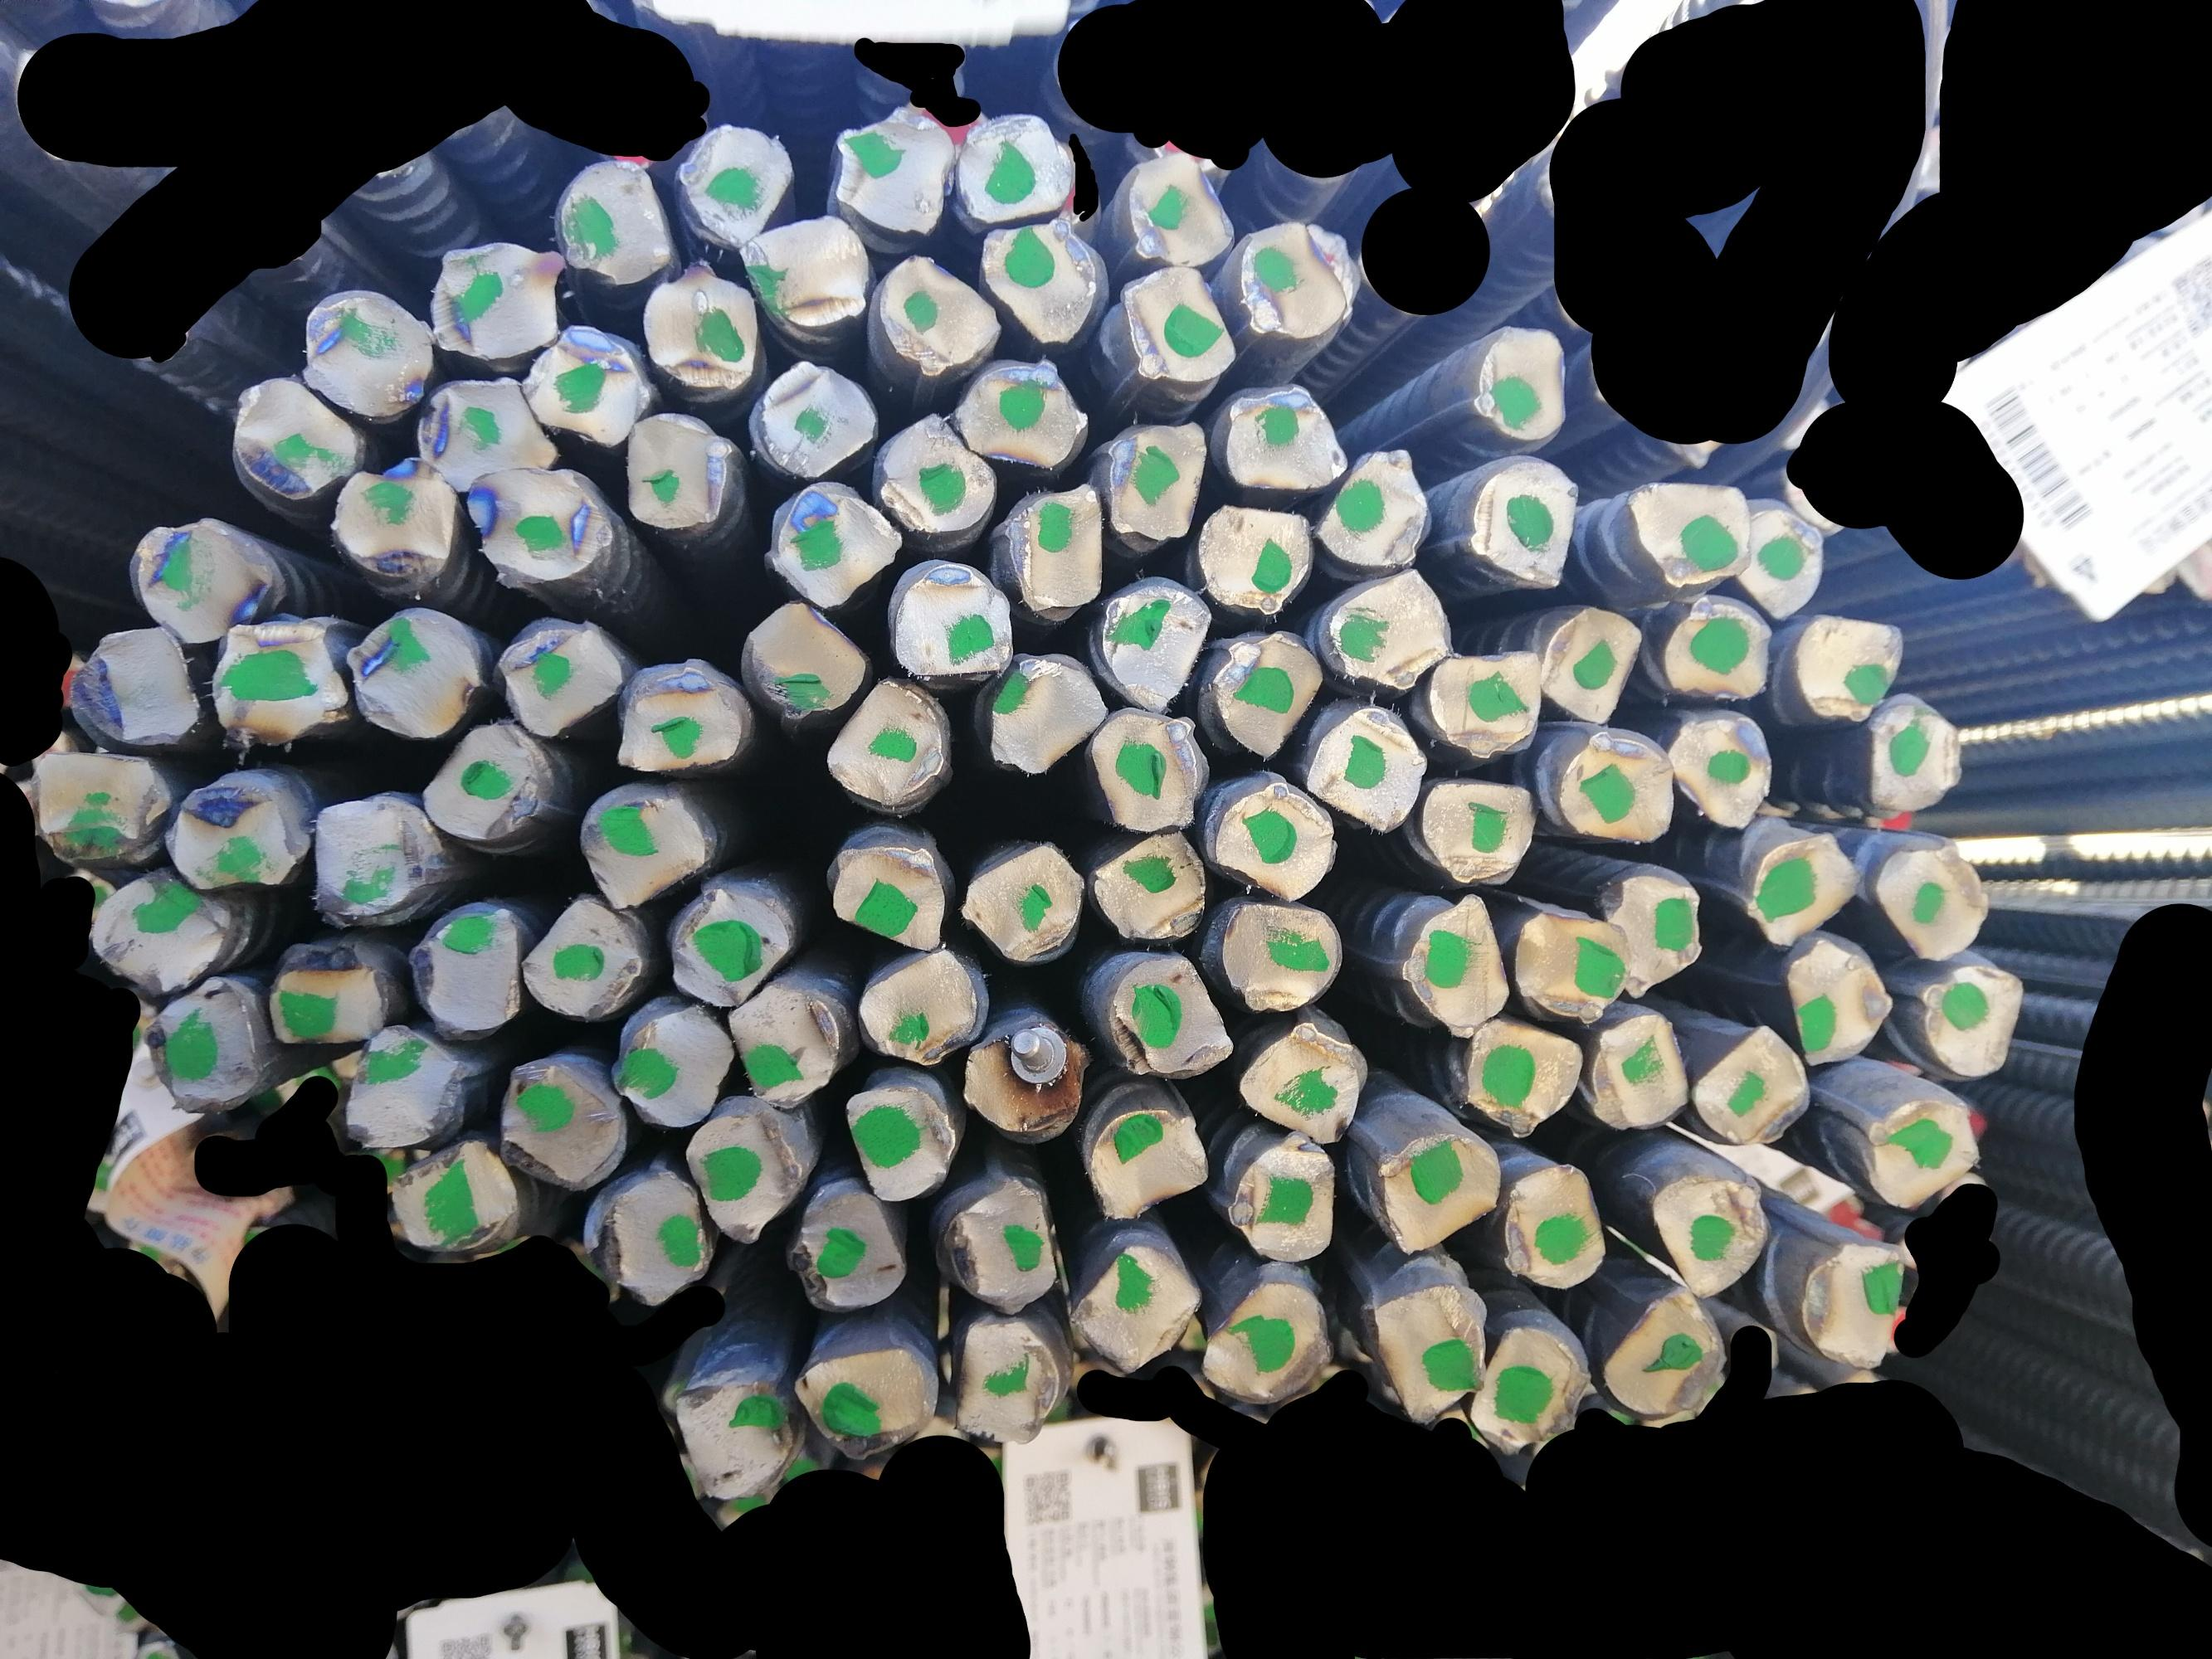bar: (80, 870, 242, 1002), (579, 1166, 718, 1309), (1056, 1237, 1201, 1375), (1642, 1155, 1768, 1305), (492, 1053, 626, 1192), (345, 603, 485, 737), (138, 971, 260, 1122), (1849, 1077, 1987, 1211), (465, 465, 619, 586), (305, 791, 441, 925), (821, 671, 955, 807), (1199, 1276, 1335, 1410), (1375, 1119, 1504, 1260), (1400, 890, 1522, 1039), (1365, 1274, 1485, 1424), (207, 617, 345, 748), (607, 993, 732, 1136), (26, 744, 173, 866), (512, 889, 645, 1023), (228, 375, 366, 504), (573, 782, 711, 910), (1302, 697, 1429, 835), (830, 96, 952, 239), (1464, 448, 1584, 592), (797, 1335, 943, 1453), (664, 875, 797, 1006), (417, 721, 547, 854), (866, 251, 1002, 378), (1471, 1312, 1593, 1453), (68, 622, 202, 749), (1236, 1018, 1370, 1145), (889, 554, 1014, 690), (1602, 1283, 1726, 1420), (493, 613, 633, 735), (429, 235, 568, 357), (406, 897, 526, 1039), (132, 518, 277, 634), (553, 153, 678, 288), (298, 289, 434, 413), (1210, 774, 1337, 904), (772, 481, 905, 606), (680, 1112, 802, 1248), (673, 1364, 791, 1504), (607, 660, 746, 779), (959, 842, 1088, 969), (1086, 1094, 1211, 1225), (940, 1176, 1063, 1309), (1693, 1012, 1809, 1152), (744, 207, 875, 331), (345, 1023, 467, 1155), (328, 455, 460, 577), (521, 324, 654, 446), (1877, 831, 1998, 965), (980, 209, 1096, 347), (950, 356, 1089, 471), (1557, 725, 1679, 856), (1089, 413, 1210, 545), (1313, 441, 1431, 575), (1123, 256, 1239, 392), (1330, 570, 1455, 695), (784, 1185, 908, 1312), (1105, 951, 1229, 1079), (1232, 214, 1356, 342), (838, 1075, 959, 1206), (678, 115, 797, 247), (723, 972, 840, 1107), (1095, 573, 1210, 709), (1914, 955, 2027, 1093), (873, 413, 997, 538), (1462, 1016, 1588, 1140), (1088, 704, 1208, 833), (417, 373, 558, 483), (164, 779, 298, 894), (1224, 1129, 1339, 1263), (859, 943, 980, 1070), (1415, 769, 1543, 889), (1210, 626, 1325, 758), (643, 258, 757, 392), (1002, 479, 1109, 622), (959, 1016, 1082, 1138), (751, 354, 879, 472), (1218, 894, 1346, 1012), (988, 647, 1105, 775), (1598, 859, 1701, 1006), (1623, 472, 1750, 589), (387, 1134, 516, 1249), (1663, 704, 1776, 835), (1802, 1227, 1902, 1375), (1506, 903, 1626, 1025), (1192, 498, 1316, 617), (743, 598, 865, 716), (1496, 1161, 1602, 1297), (1119, 145, 1236, 268), (1788, 927, 1888, 1072), (1661, 586, 1773, 713), (955, 1316, 1062, 1448), (1225, 378, 1351, 490), (1754, 826, 1865, 951), (830, 833, 948, 950), (1428, 643, 1546, 760), (267, 939, 389, 1053), (619, 410, 730, 533), (1089, 824, 1204, 941), (1537, 603, 1642, 728), (955, 112, 1072, 223), (1797, 605, 1907, 723), (1590, 1007, 1689, 1138), (1469, 319, 1571, 443), (1867, 690, 1961, 819), (1743, 500, 1827, 622)
